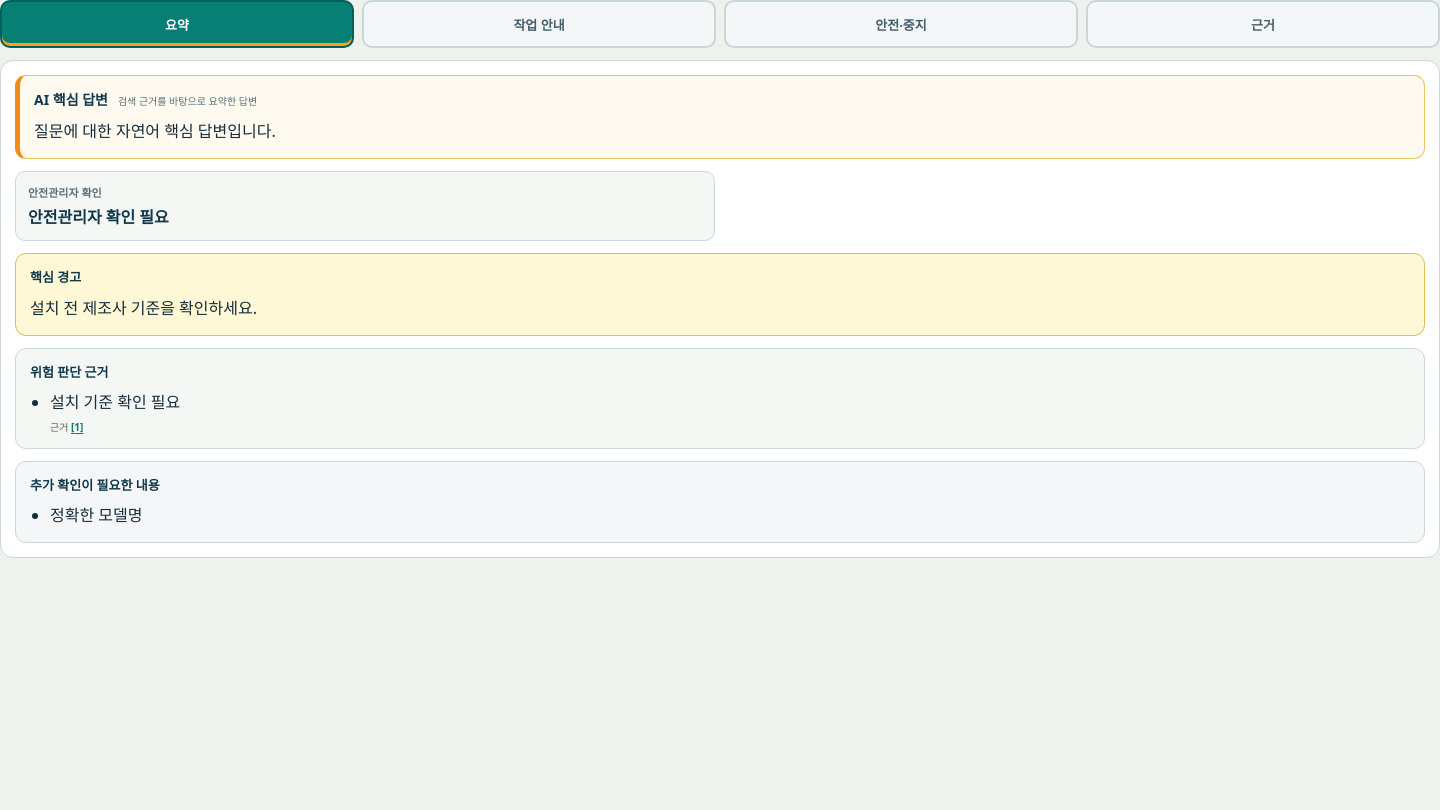
Test: AnswerTabs › moves to the evidence tab when an evidence number is selected
Click the link "[1]": (77, 427) [71, 420, 83, 434]
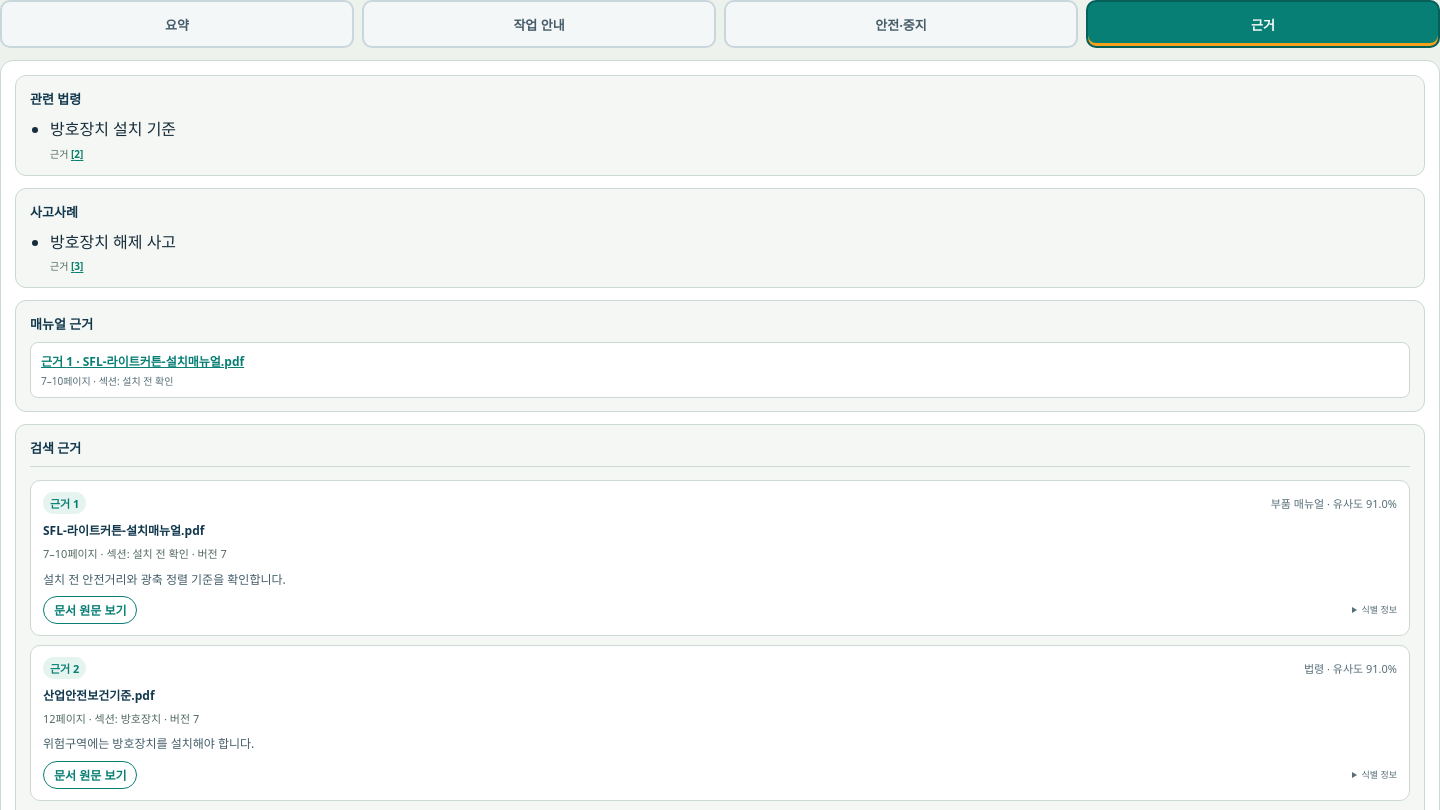
Result: the text "SFL-라이트커튼-설치매뉴얼.pdf" is shown at [43, 522, 204, 539]
